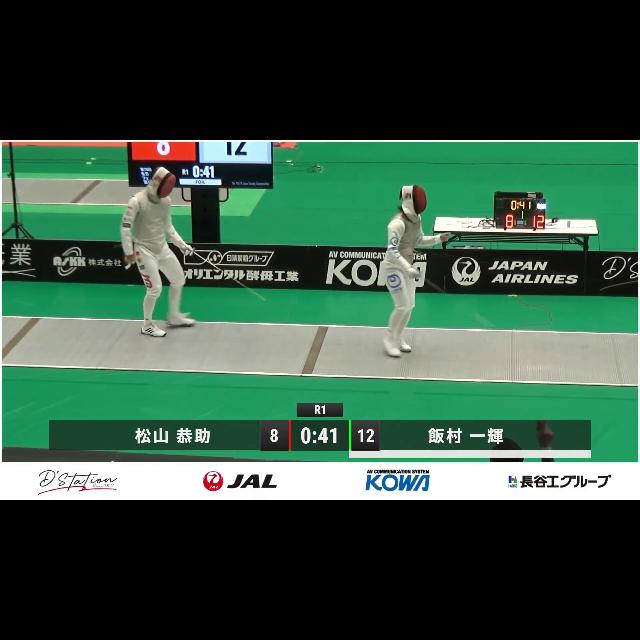blade: (405, 266, 497, 330), (184, 244, 268, 304)
